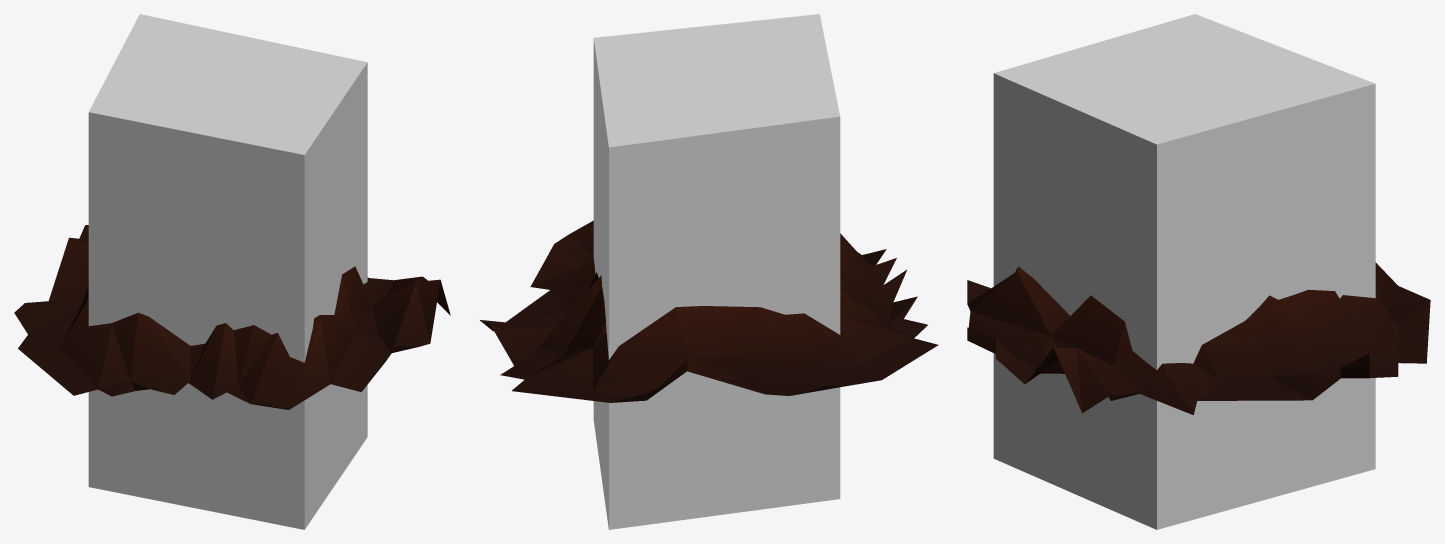
Rendered from island_small_volcanic_Collection.fbx.
3 views of the same model, side by side, from view 1: azimuth 30°, elevation 25°; view 2: azimuth 150°, elevation 25°; view 3: azimuth 270°, elevation 25° (orthographic). The views are drawn at different scales.
Visible parts, largest first — view 1: islandRock_1_col, islandRock_1; view 2: islandRock_1_col, islandRock_1; view 3: islandRock_1_col, islandRock_1.
Part boxes in pixels (x1,y1,x2,y2): islandRock_1_col: (88,14,367,529); islandRock_1: (14,225,450,409); islandRock_1_col: (593,14,840,529); islandRock_1: (480,220,938,402); islandRock_1_col: (993,14,1375,529); islandRock_1: (967,262,1430,414).
Size of the model in its own units: 2573 by 2538 by 2765.
